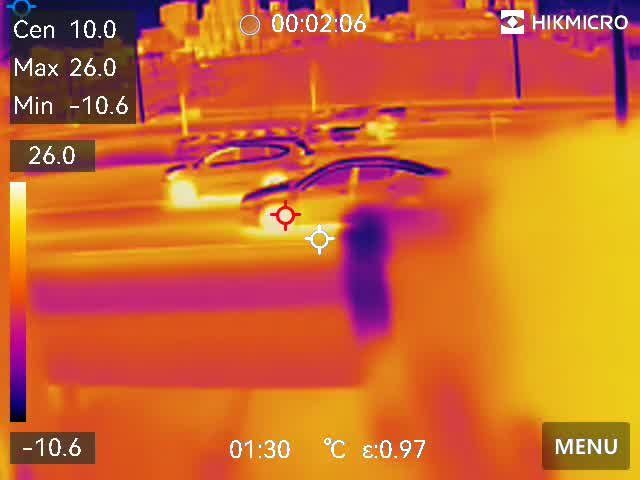largeCar: (155, 138, 312, 197)
smallCar: (237, 157, 459, 225)
